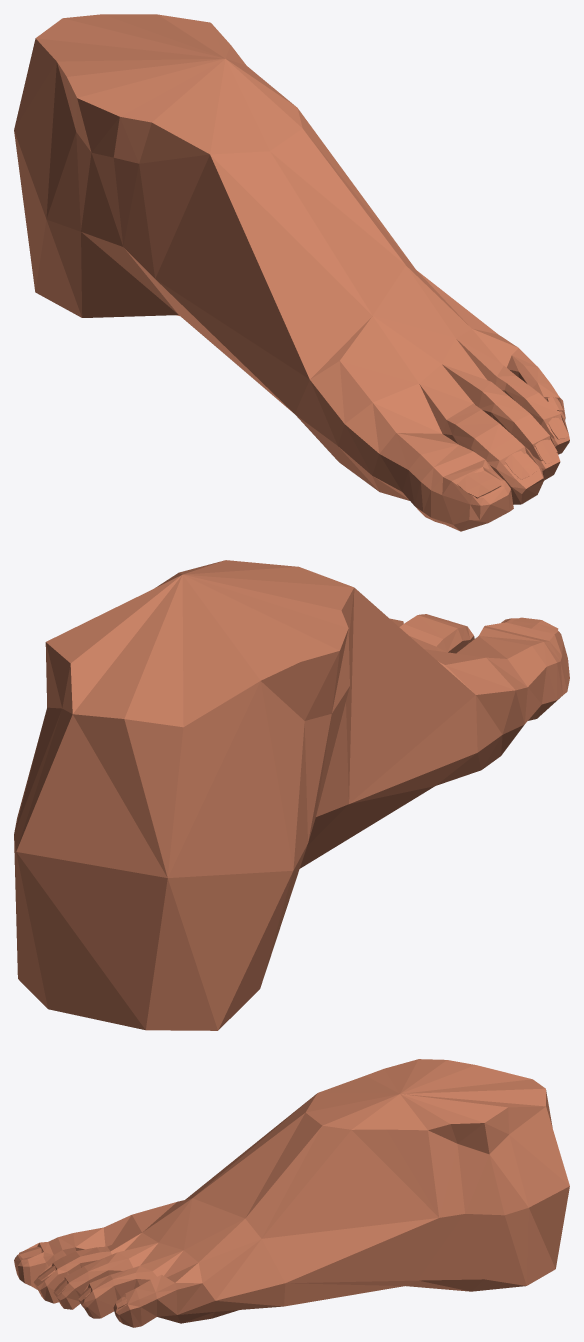
File: foot_left.dae
3 views of the same model, one above another, from view 1: azimuth 30°, elevation 25°; view 2: azimuth 150°, elevation 25°; view 3: azimuth 270°, elevation 25° (orthographic). The views are drawn at different scales.
Visible parts, largest first — view 1: Foot; view 2: Foot; view 3: Foot.
Boxes of the visible parts, x1,y1,x2,y2 form: Foot: [14, 14, 569, 531]; Foot: [14, 560, 569, 1030]; Foot: [14, 1059, 569, 1327].
Bounding box in the file's own units: 0.656 × 1.61 × 0.623.
